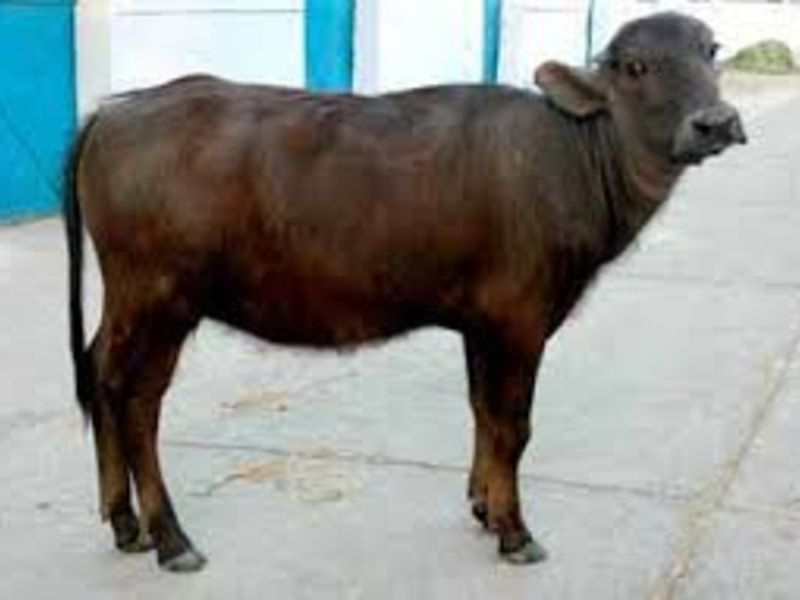buffalo: (61, 8, 748, 575)
